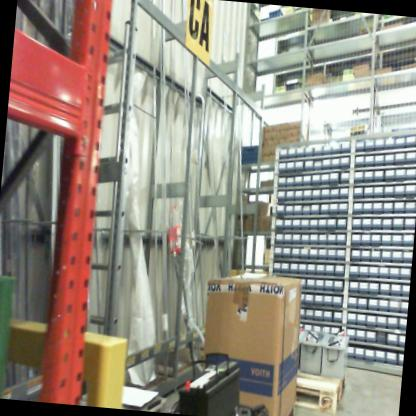pallet: (76, 364, 179, 411), (291, 364, 365, 416)
